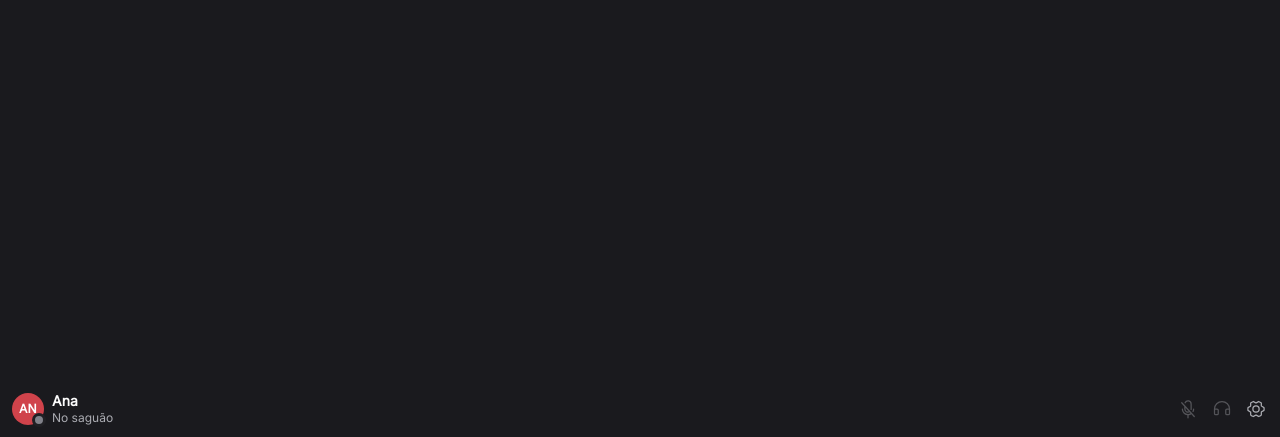
Test: as preferências do painel da pessoa › o fone guardado que está desligado aparece como desconectado, sem trocar a escolha
(page scrolled)
Click the button named "Preferências".
click(1256, 409)  # box left=1240, top=393, right=1272, bottom=425
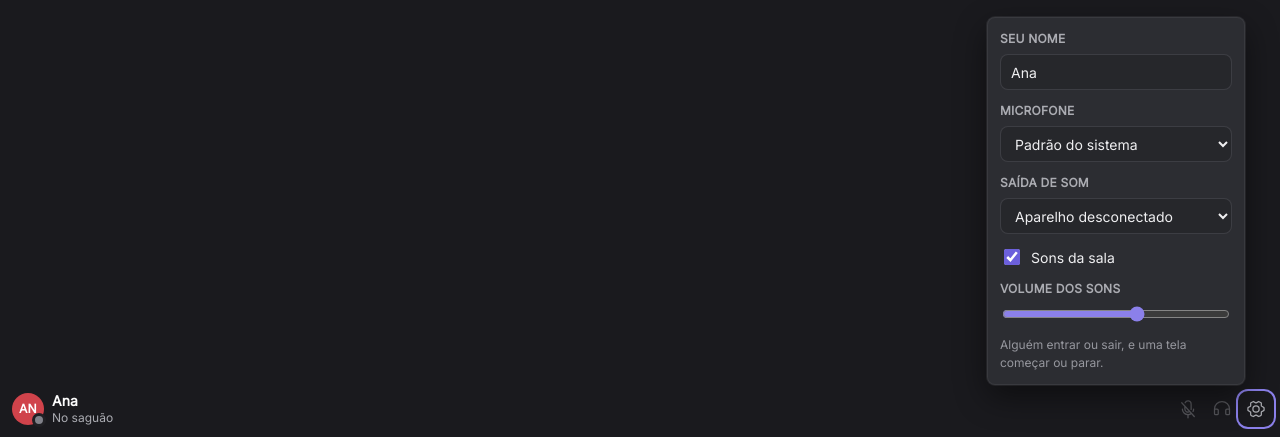
Result: the dropdown labelled "Saída de som" shows "Aparelho desconectado" at left=1000, top=198, right=1232, bottom=234
